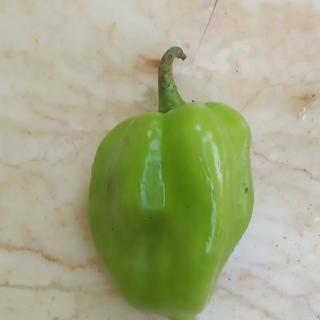Grade-A: (76, 95, 260, 317)
